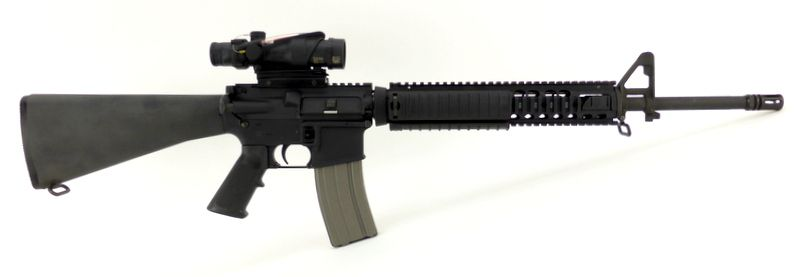Arma Real: (15, 26, 785, 255)
